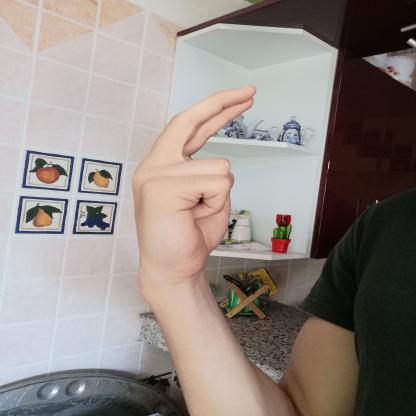ZAY: (121, 77, 270, 295)
